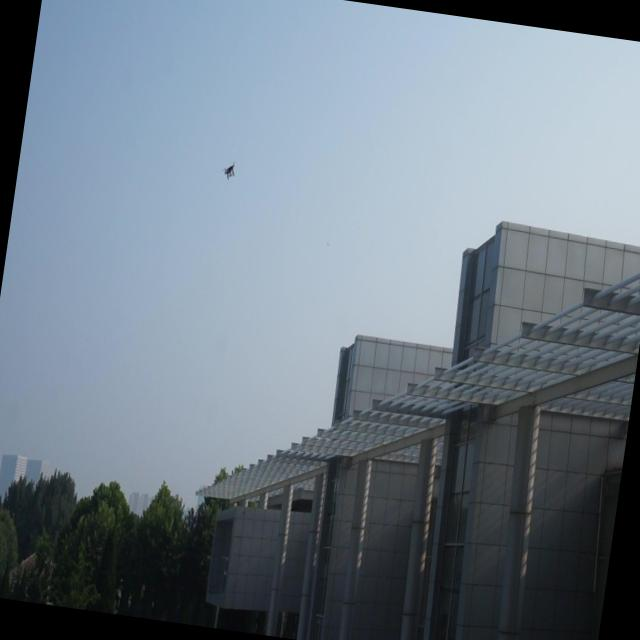drone: (221, 157, 239, 184)
